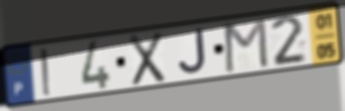2: (269, 14, 310, 68)
4: (79, 38, 114, 92)
I: (38, 46, 54, 98)
J: (176, 27, 209, 77)
M: (222, 16, 271, 75)
X: (127, 30, 167, 89)
